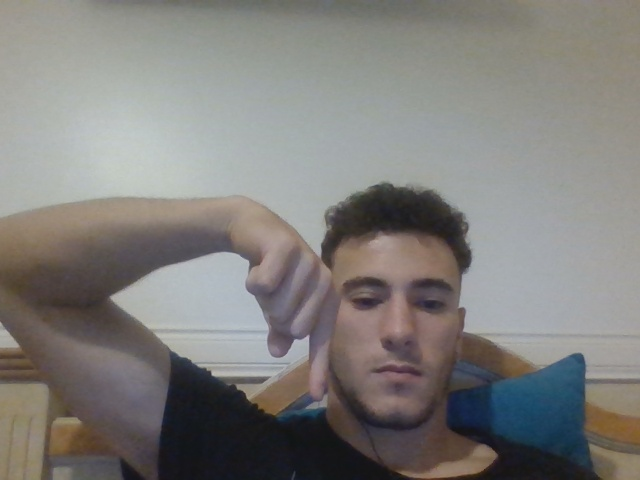Down: (247, 237, 341, 401)
